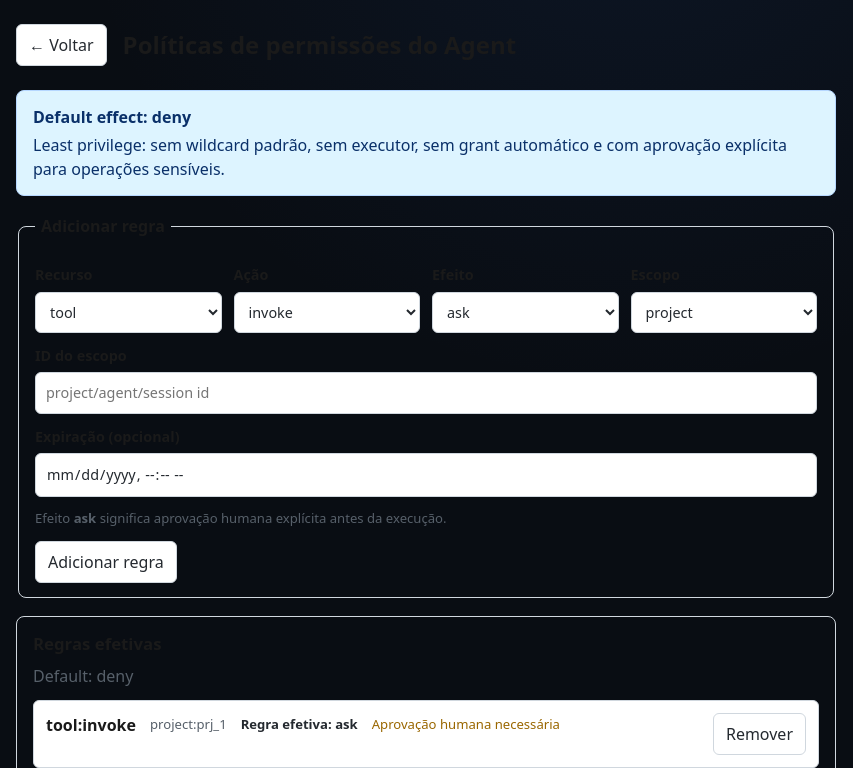
Test: PermissionsPage › rejects conflicting duplicate rules before update
The image size is (853, 768).
Check: the text "Default: deny" is shown, box [33, 665, 133, 687]
Step 1. Select "tool" in the dropdown labelled "Recurso" → (128, 312), box [35, 292, 222, 333]
Step 2. Select "invoke" in the dropdown labelled "Ação" → (327, 312), box [234, 292, 420, 333]
Step 3. Select "deny" in the dropdown labelled "Efeito" → (525, 312), box [432, 292, 618, 333]
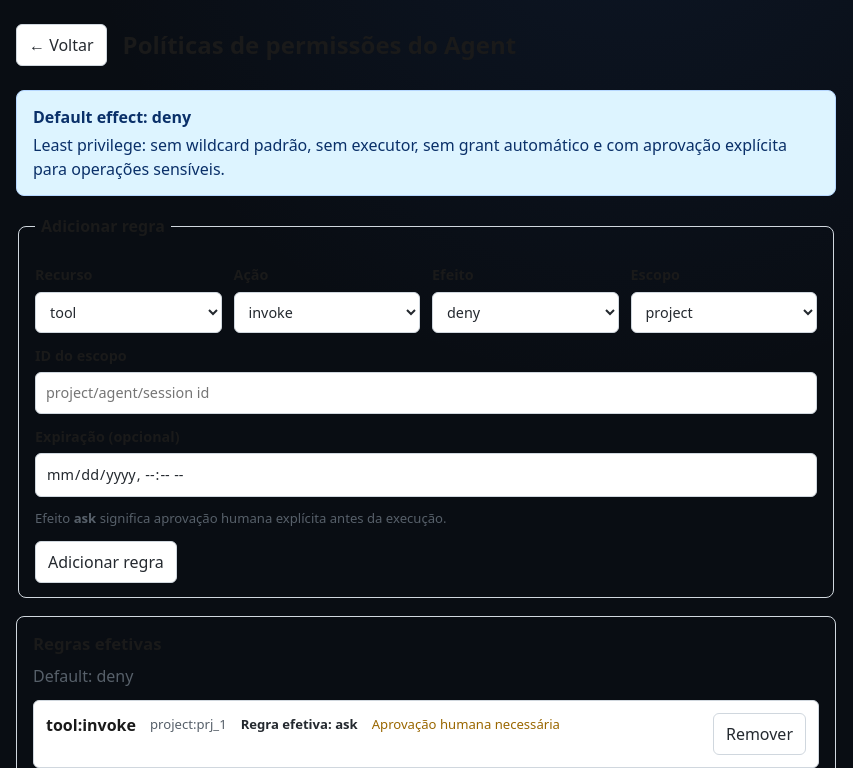
Step 4. Select "project" in the dropdown labelled "Escopo" → (724, 312), box [630, 292, 817, 333]
Step 5. Type "prj_1" into the field labelled "ID do escopo" → (426, 393), box [35, 372, 817, 414]
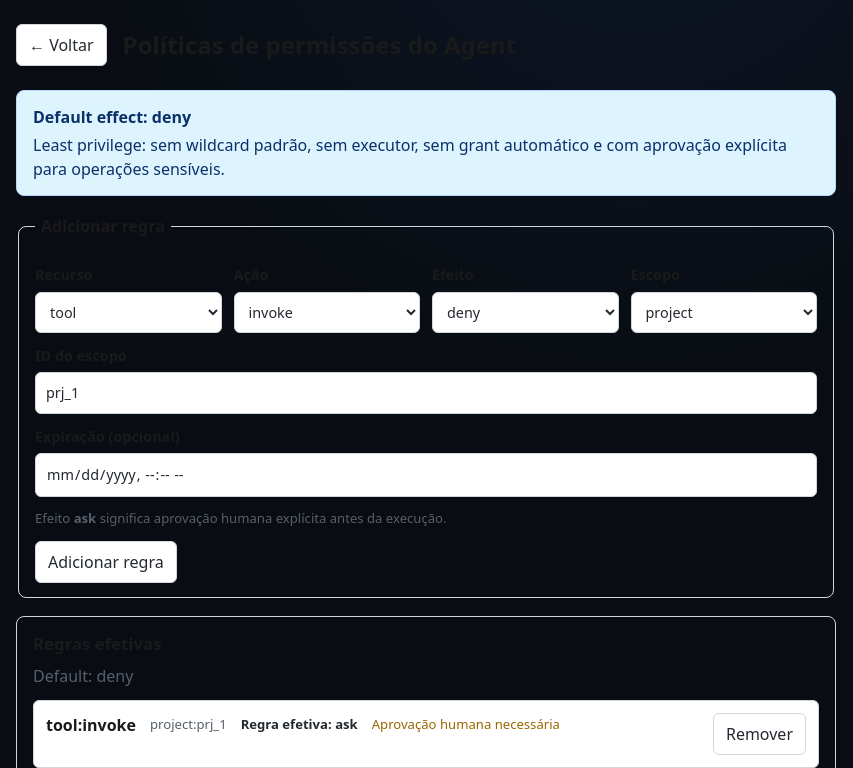
Step 6. Click the button "Adicionar regra" → (106, 562), box [35, 541, 177, 583]
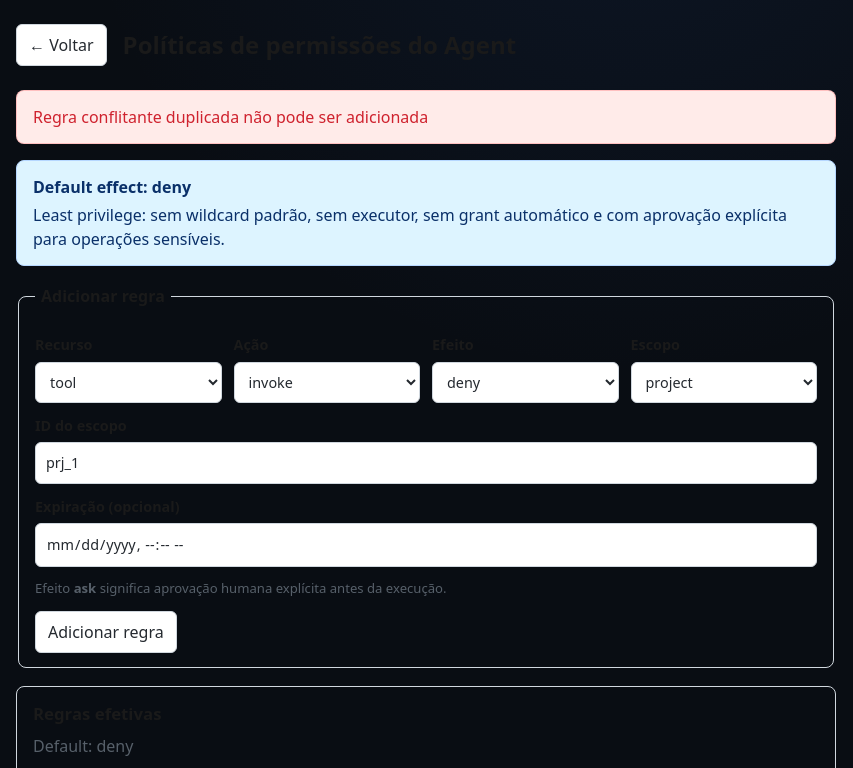
Check: the message reads "Regra conflitante duplicada não pode ser adicionada", box [33, 106, 428, 128]
